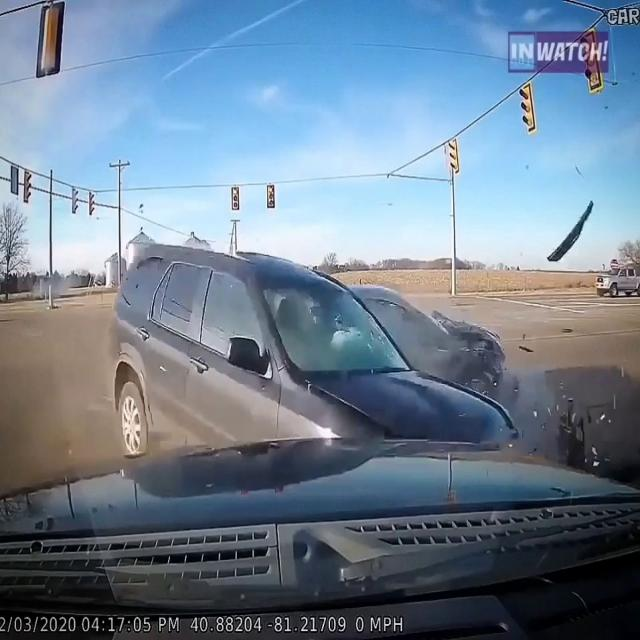accident: (110, 223, 520, 449)
